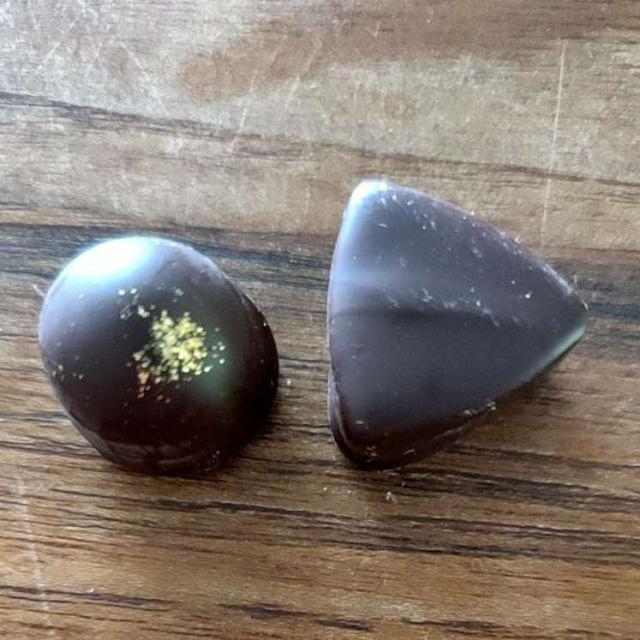nuts: (26, 187, 598, 484)
